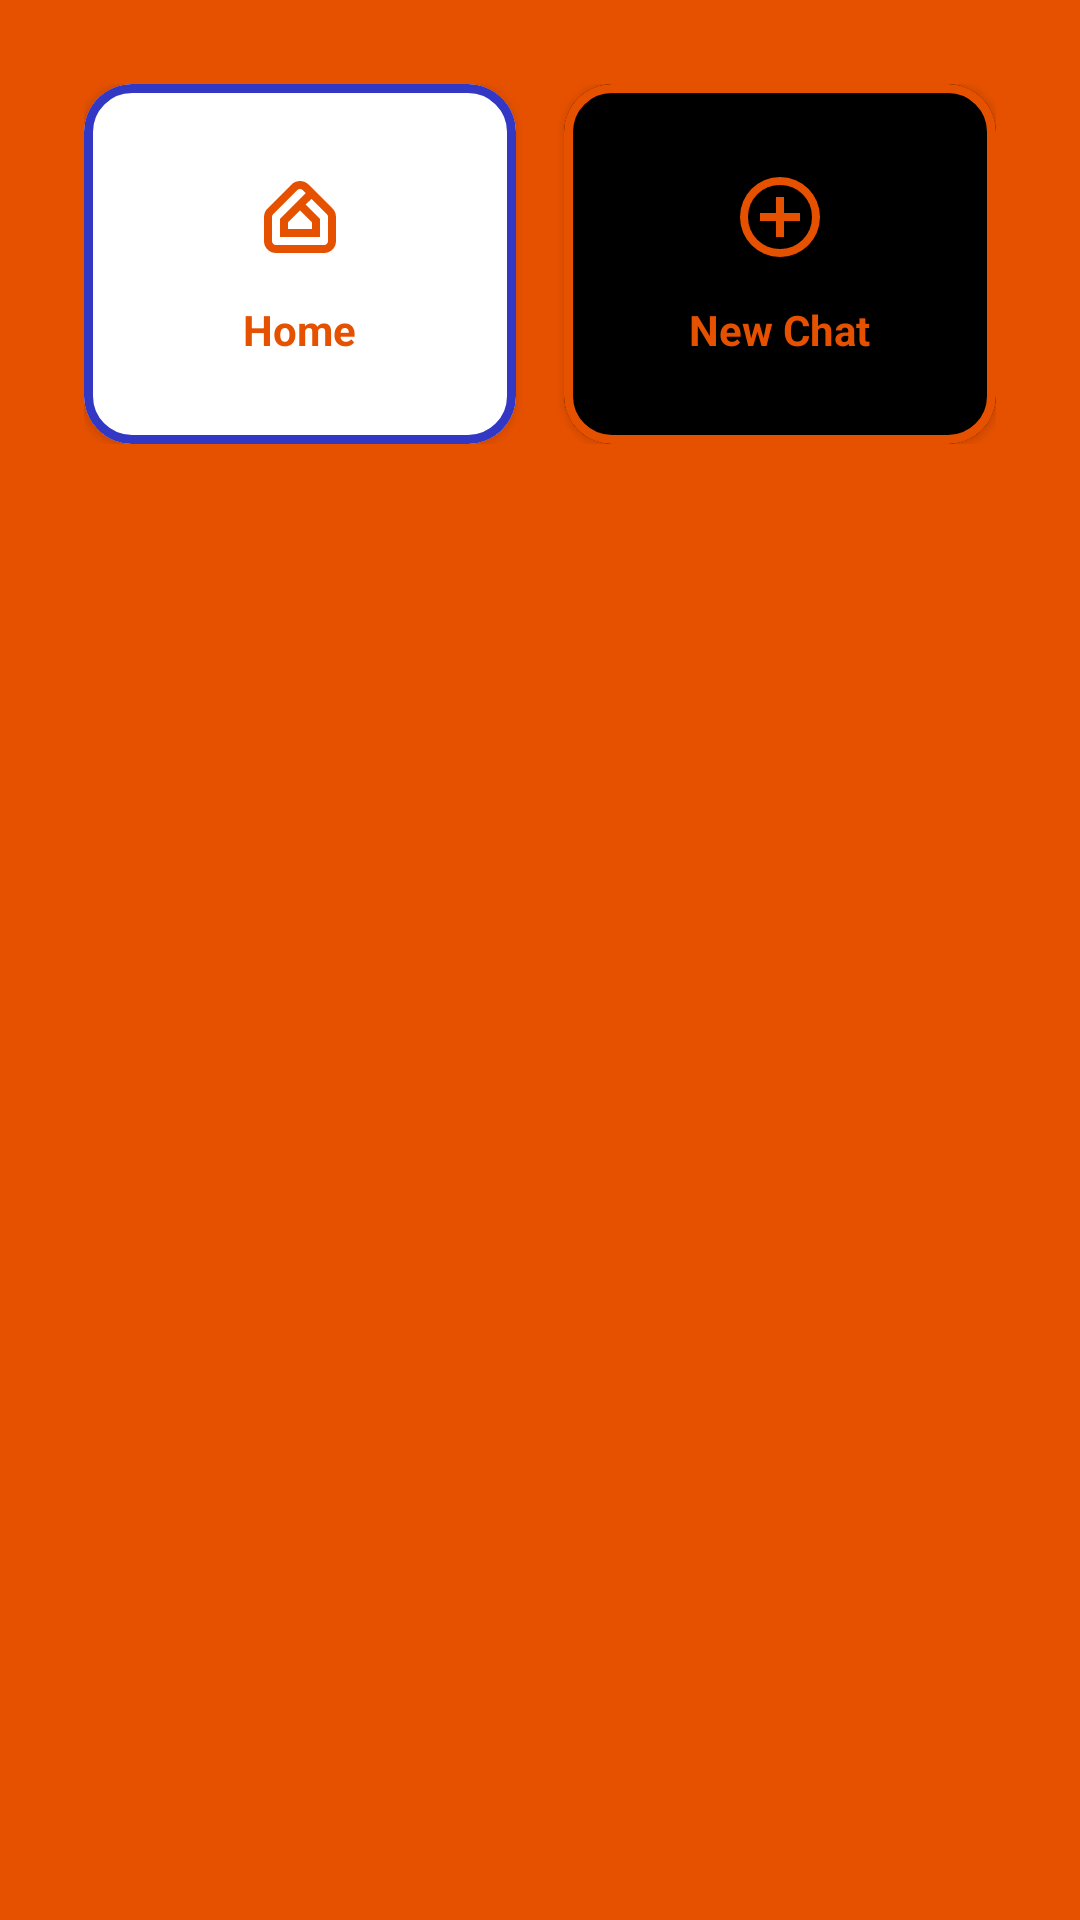

Where icons sit on this 1080px x 1920px app screen, as (x1, y1, x2, y2):
plus: (740, 177, 820, 257)
